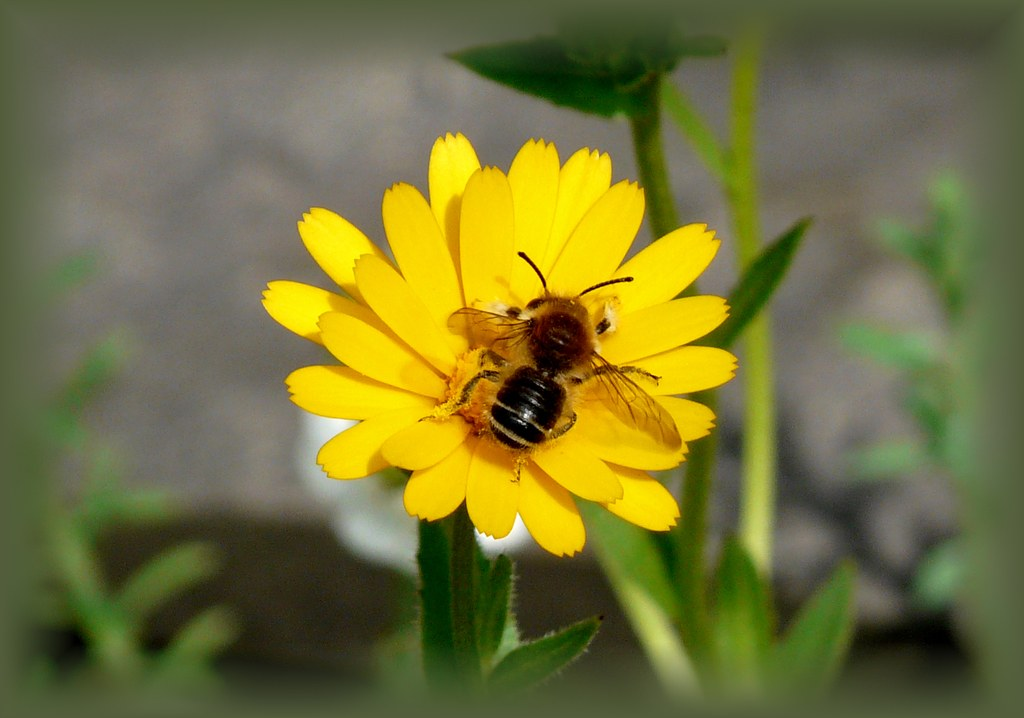bee: (457, 251, 683, 483)
